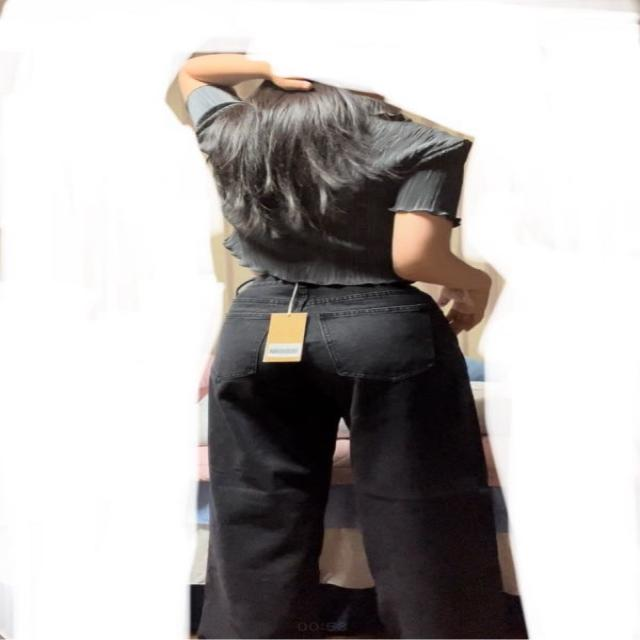denimpants: (206, 268, 501, 640)
shortsleeve: (188, 85, 470, 287)
